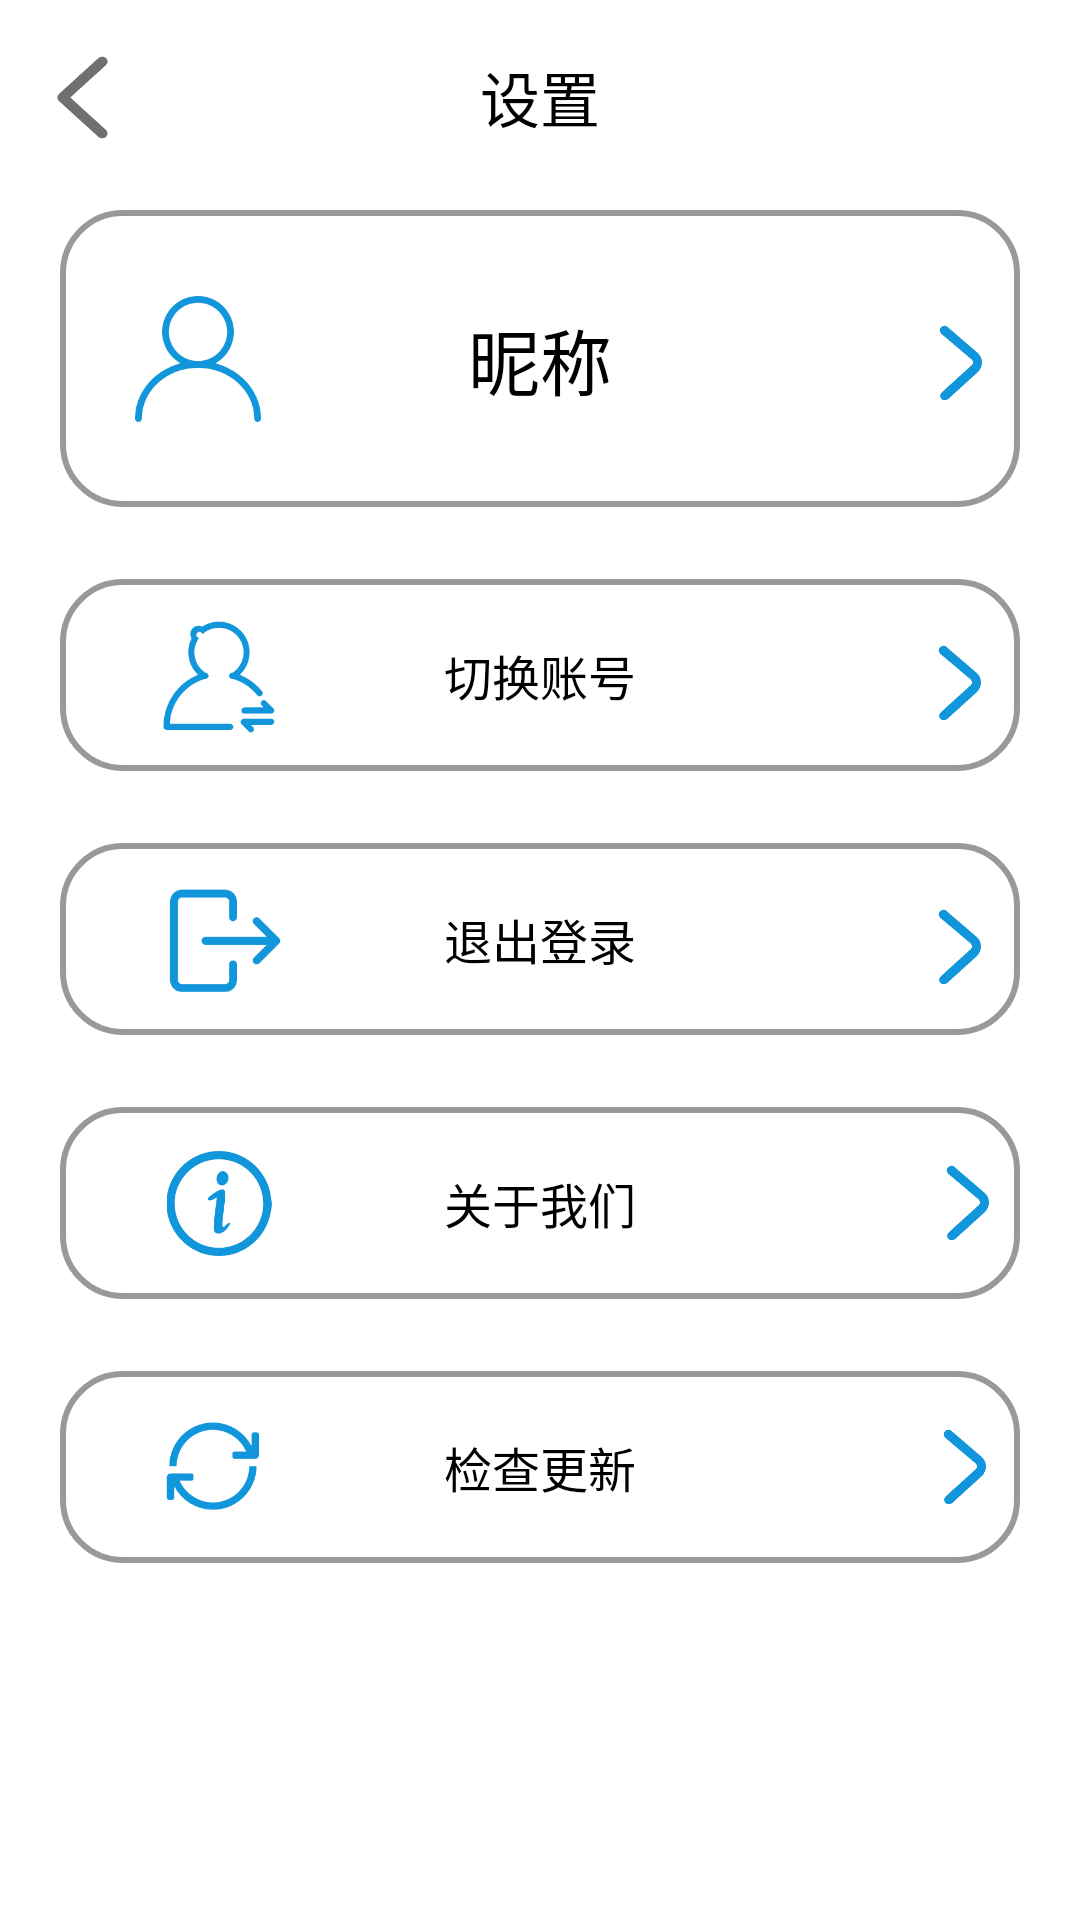

Screen size 1080×1920. Icon name, then its center in pixels as (x,y):
aboutus: (219,1203)
exitlogin: (225,940)
right: (960,362), (959,682), (959,946), (967,1202), (964,1466)
transformuser: (219,677)
